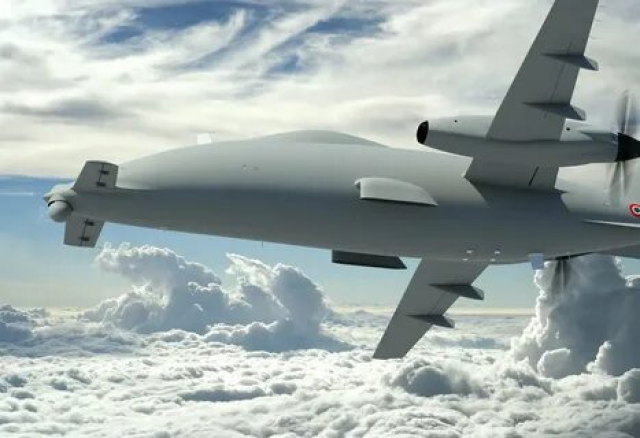military drone: (42, 0, 640, 359)
